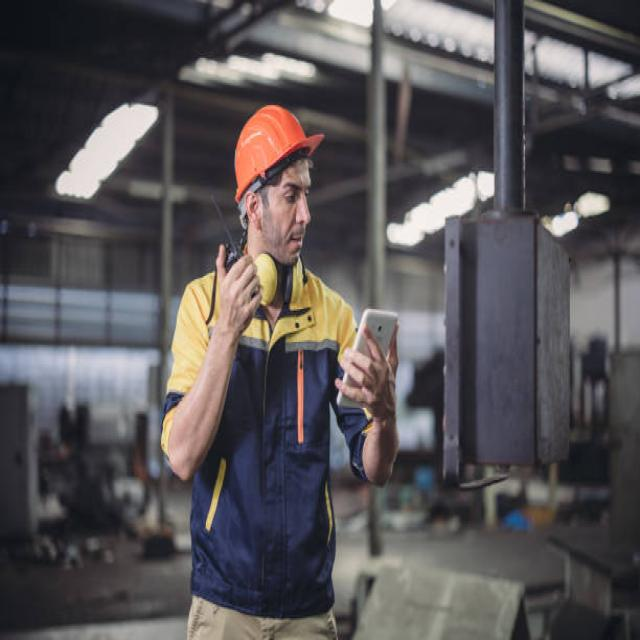without_helmet: (244, 156, 317, 257)
